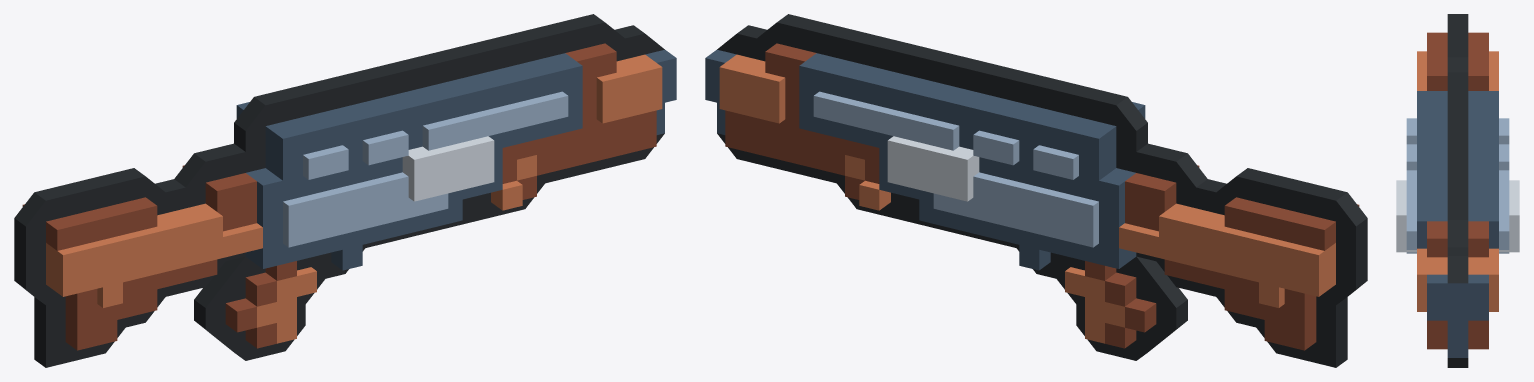
File: ak_back.glb
3 renders of one model, left to right at view 1: azimuth 30°, elevation 25°; view 2: azimuth 150°, elevation 25°; view 3: azimuth 270°, elevation 25°, orthographic. The views are drawn at different scales.
Visible parts, largest first — view 1: generated(Clone); view 2: generated(Clone); view 3: generated(Clone).
Boxes of the visible parts, x1,y1,x2,y2 form: generated(Clone): [14, 14, 676, 367]; generated(Clone): [705, 14, 1367, 367]; generated(Clone): [1396, 14, 1519, 367].
Size of the model in its own units: 32 by 12 by 6.
Materials: 1 (1 with a texture image).
